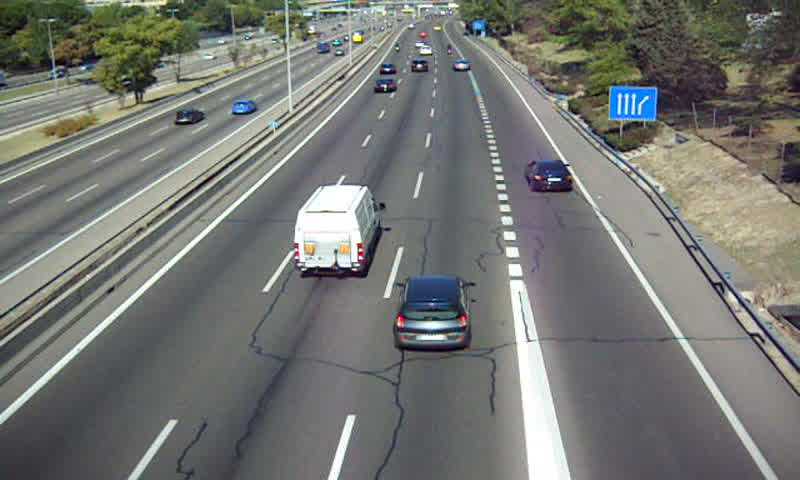car: (395, 278, 470, 350), (526, 160, 572, 191), (373, 78, 396, 96), (377, 62, 397, 76), (409, 59, 428, 73), (451, 59, 471, 72)
van: (295, 186, 384, 279)
